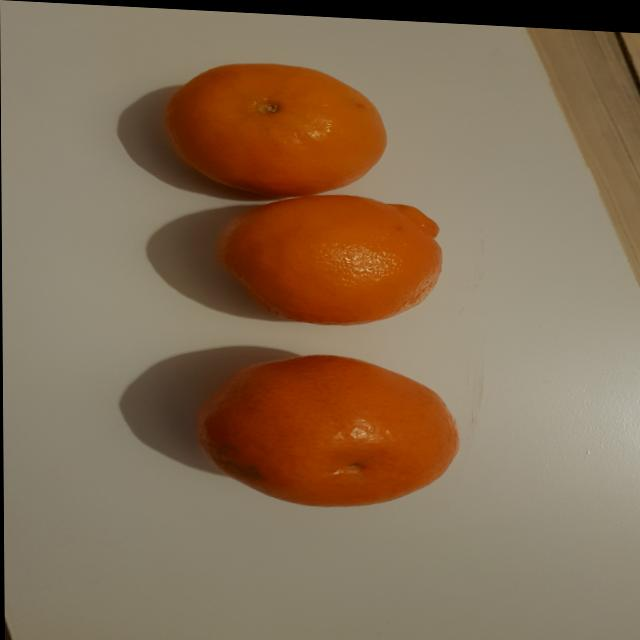Orange: (193, 352, 460, 506), (161, 62, 389, 196), (216, 192, 445, 324)
